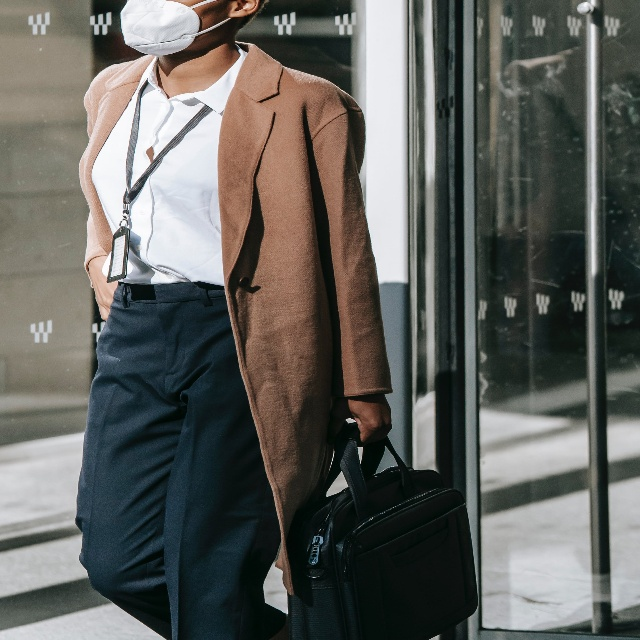Mascara: (120, 0, 232, 57)
Sin_guantes: (326, 394, 391, 447), (87, 257, 117, 322)
